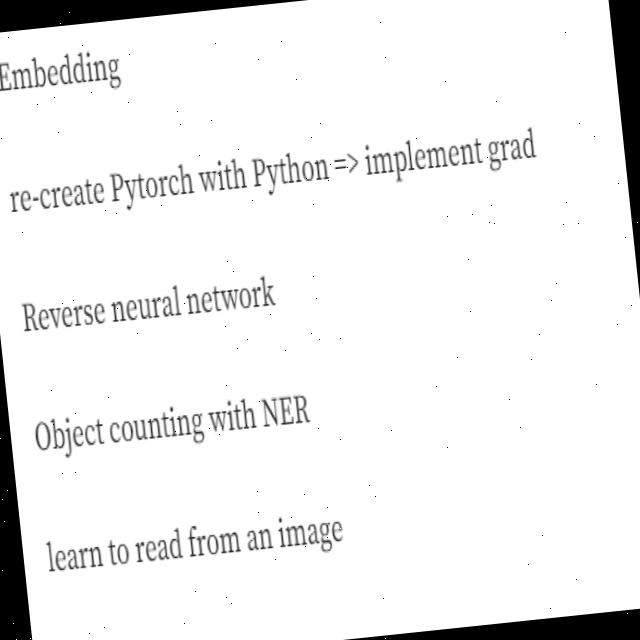word: (0, 43, 129, 110), (358, 128, 488, 185), (104, 401, 208, 457), (246, 140, 336, 204), (105, 157, 201, 213), (183, 273, 282, 322), (6, 174, 109, 220), (19, 293, 111, 341), (273, 507, 351, 558), (32, 407, 108, 459), (42, 529, 110, 585), (482, 124, 546, 181), (106, 285, 184, 331), (183, 516, 248, 571), (194, 153, 255, 209), (257, 386, 315, 435), (132, 524, 187, 572), (205, 397, 261, 441), (239, 515, 279, 560), (328, 141, 364, 185), (104, 529, 135, 579)
